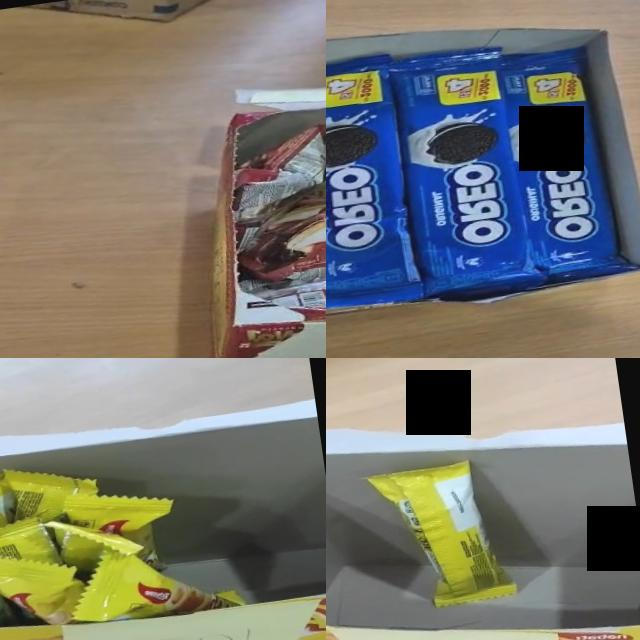Ahh: (364, 454, 522, 616), (77, 551, 241, 622), (65, 494, 171, 567), (0, 557, 85, 625), (47, 521, 143, 575), (6, 470, 96, 521), (0, 516, 58, 563), (0, 474, 15, 525)
Chocopie: (236, 126, 326, 227), (241, 187, 326, 282), (242, 203, 326, 280), (257, 278, 326, 320)
Oreo: (386, 44, 550, 308), (495, 40, 640, 287), (326, 53, 424, 316)
